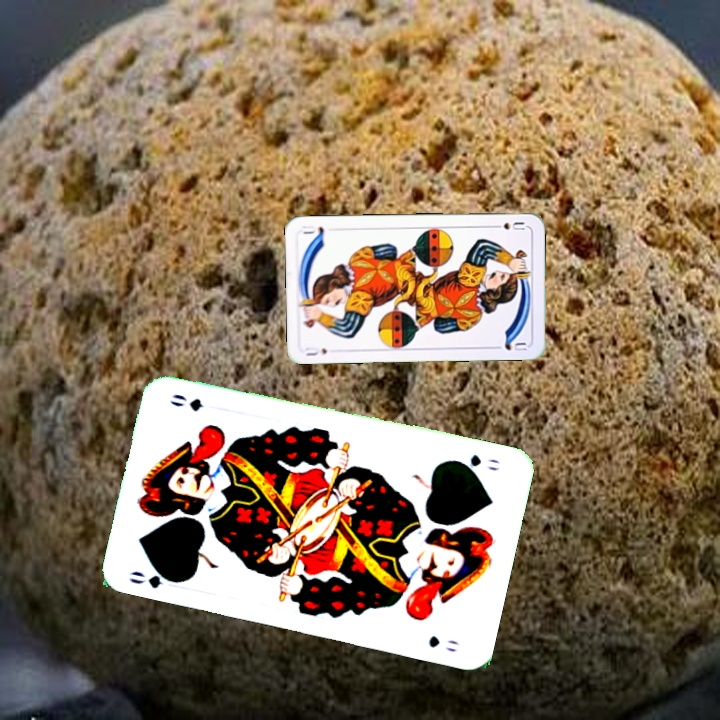GO: (124, 563, 185, 591), (449, 450, 503, 474)
SU: (488, 218, 527, 233), (302, 343, 329, 359)
